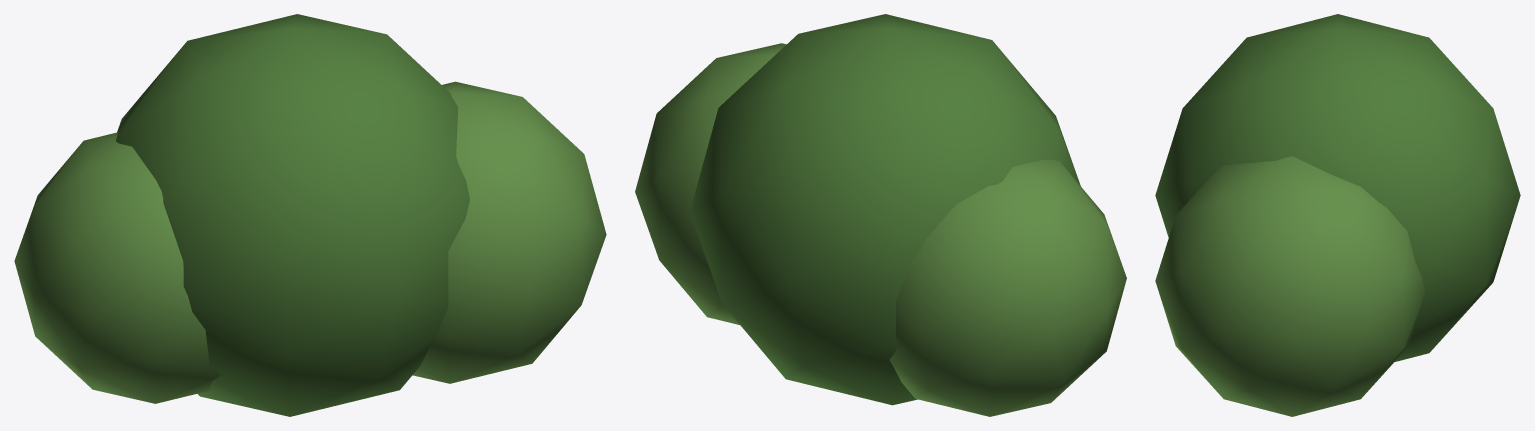
File: bush.glb
The picture shows the model from 3 angles, left to right: view 1: azimuth 30°, elevation 25°; view 2: azimuth 150°, elevation 25°; view 3: azimuth 270°, elevation 25°; orthographic projection. The views are drawn at different scales.
Parts seen in each view (by area): view 1: bush; view 2: bush; view 3: bush.
Part boxes in pixels (x1,y1,x2,y2): bush: [14, 14, 606, 416]; bush: [635, 14, 1126, 416]; bush: [1155, 14, 1520, 416].
Size of the model in its own units: 1.72 by 1.2 by 1.2.
